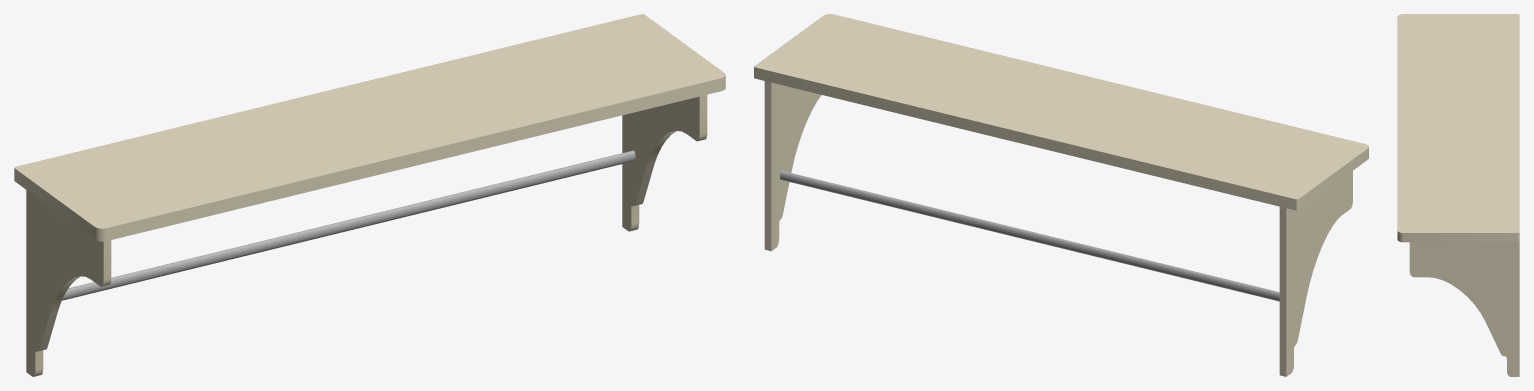
File: shelf.glb
3 views of the same model, side by side, from view 1: azimuth 30°, elevation 25°; view 2: azimuth 150°, elevation 25°; view 3: azimuth 270°, elevation 25° (orthographic). The views are drawn at different scales.
Parts seen in each view (by area): view 1: Cube.006; view 2: Cube.006; view 3: Cube.006.
Boxes of the visible parts, x1,y1,x2,y2 form: Cube.006: (14,14,725,376); Cube.006: (754,14,1368,376); Cube.006: (1397,14,1519,376).
Size of the model in its own units: 0.7598 by 0.24 by 0.179.
